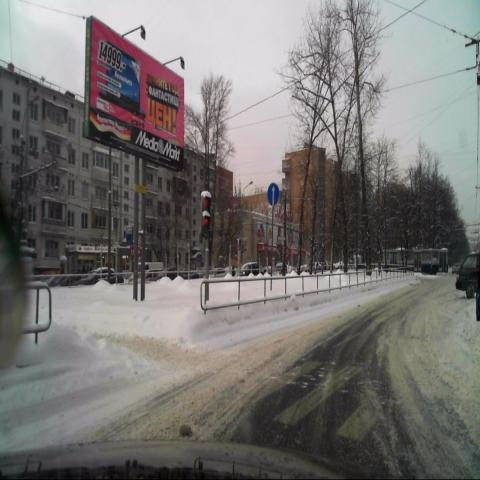4_1_1: (267, 183, 279, 204)
